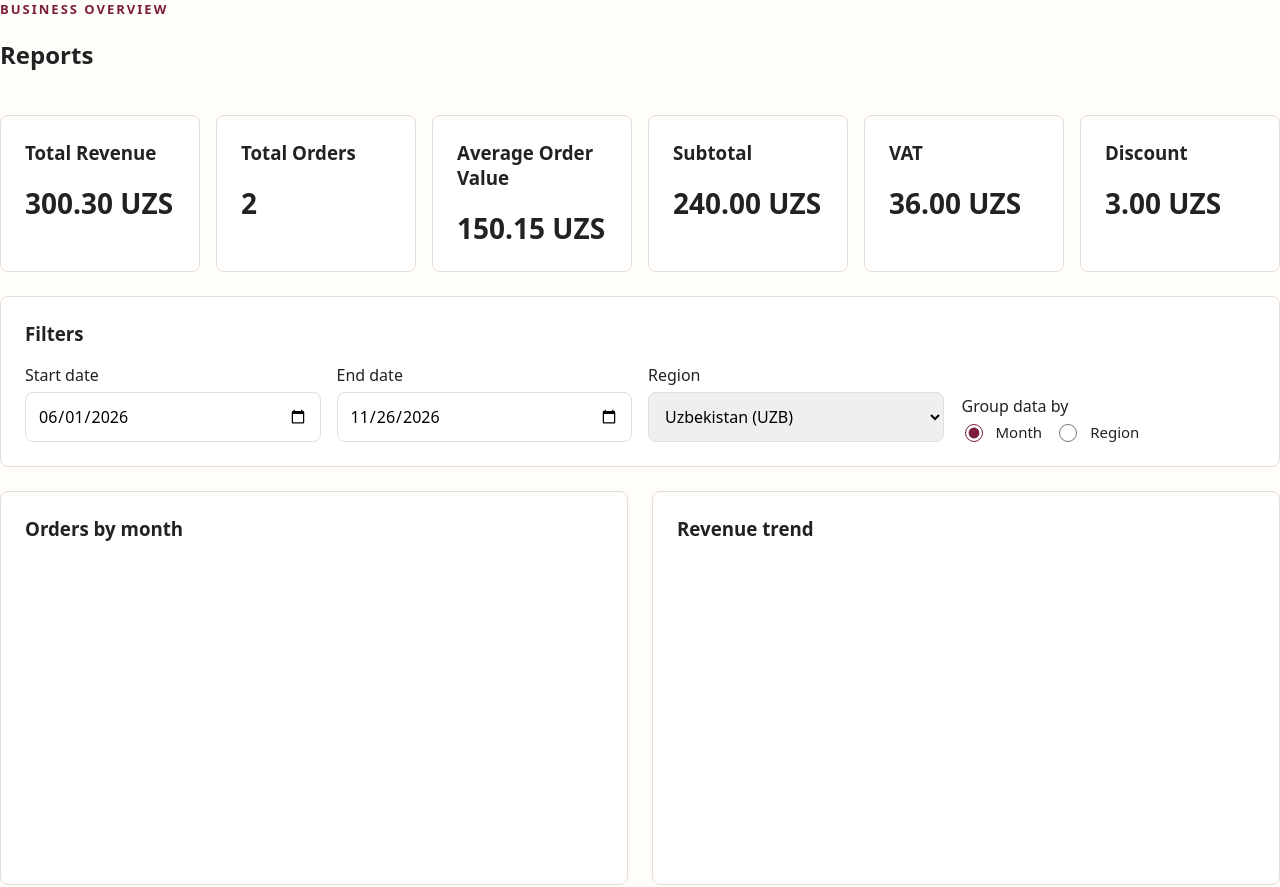
Sales reports › requests PDF using exactly the active date, region and grouping filters
This screenshot has width=1280, height=887.
Later steps or results of the test are not shown.
Expected: the text "300.30 UZS" is shown, x1=25 y1=184 x2=173 y2=222
Type "2026-01-01" into the date field labelled "Start date".
click(173, 417); type("2026-01-01")  # box x1=25 y1=392 x2=320 y2=442
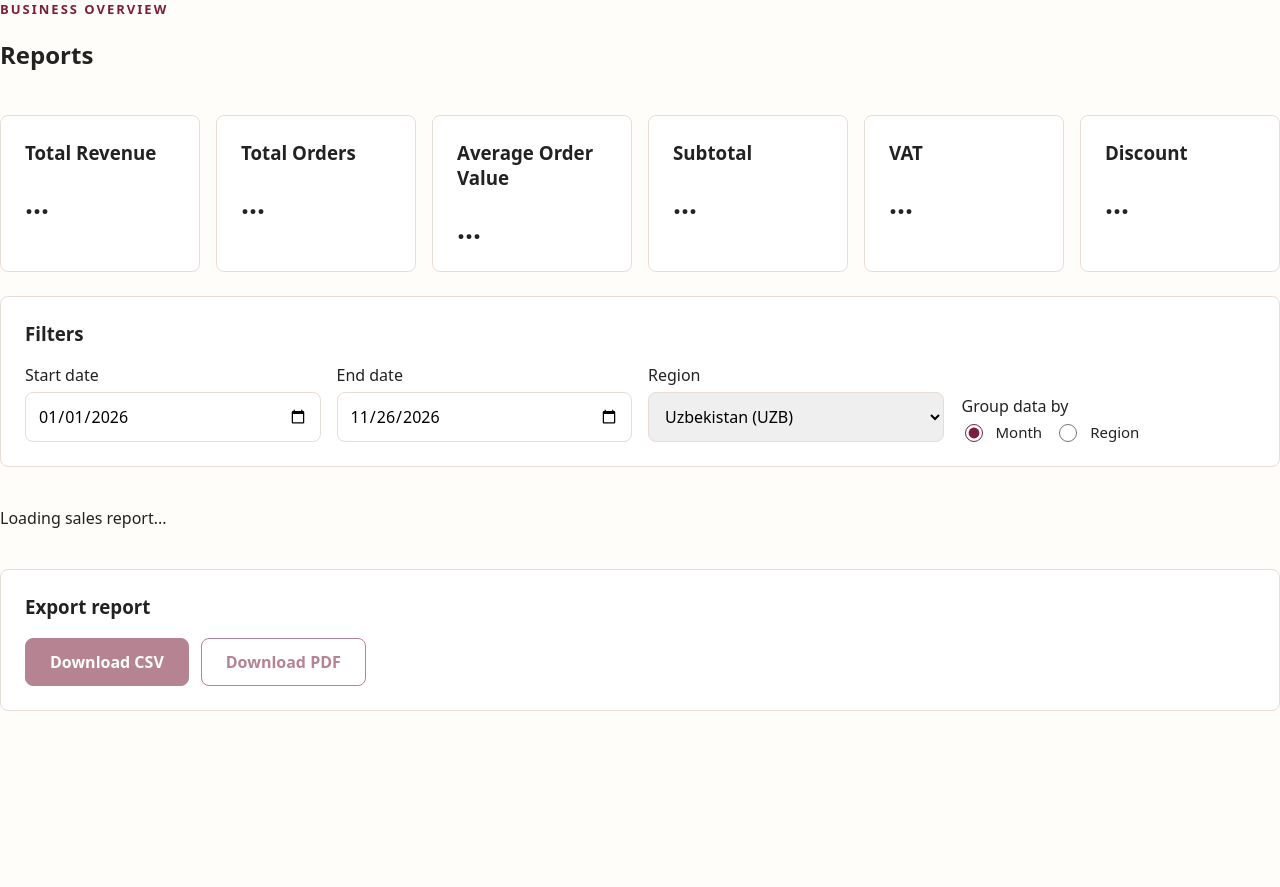
Type "2026-01-31" into the date field labelled "End date".
click(484, 417); type("2026-01-31")  # box x1=336 y1=392 x2=632 y2=442
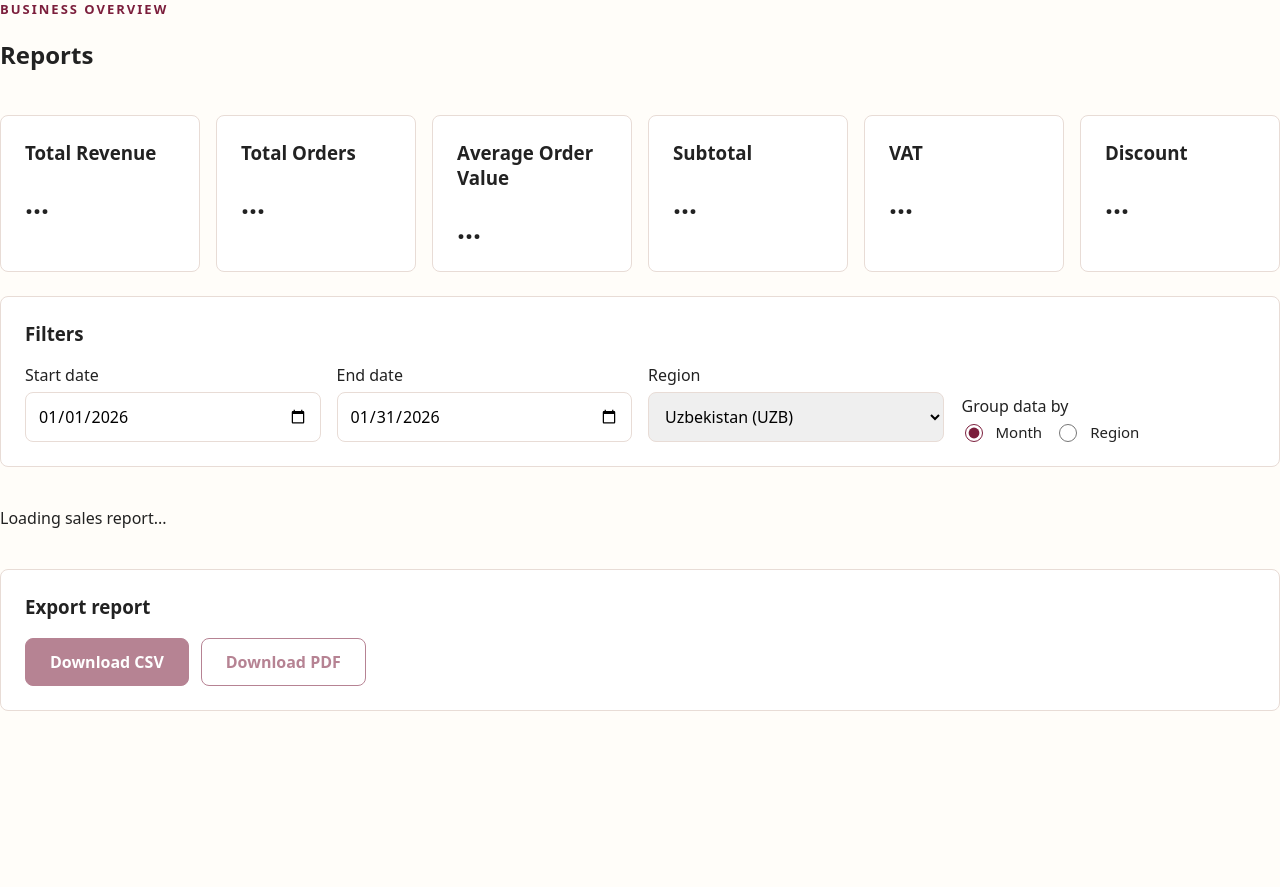
Select "Georgia (GEO)" in the dropdown labelled "Region" at x=796, y=417, box x1=648 y1=392 x2=944 y2=442
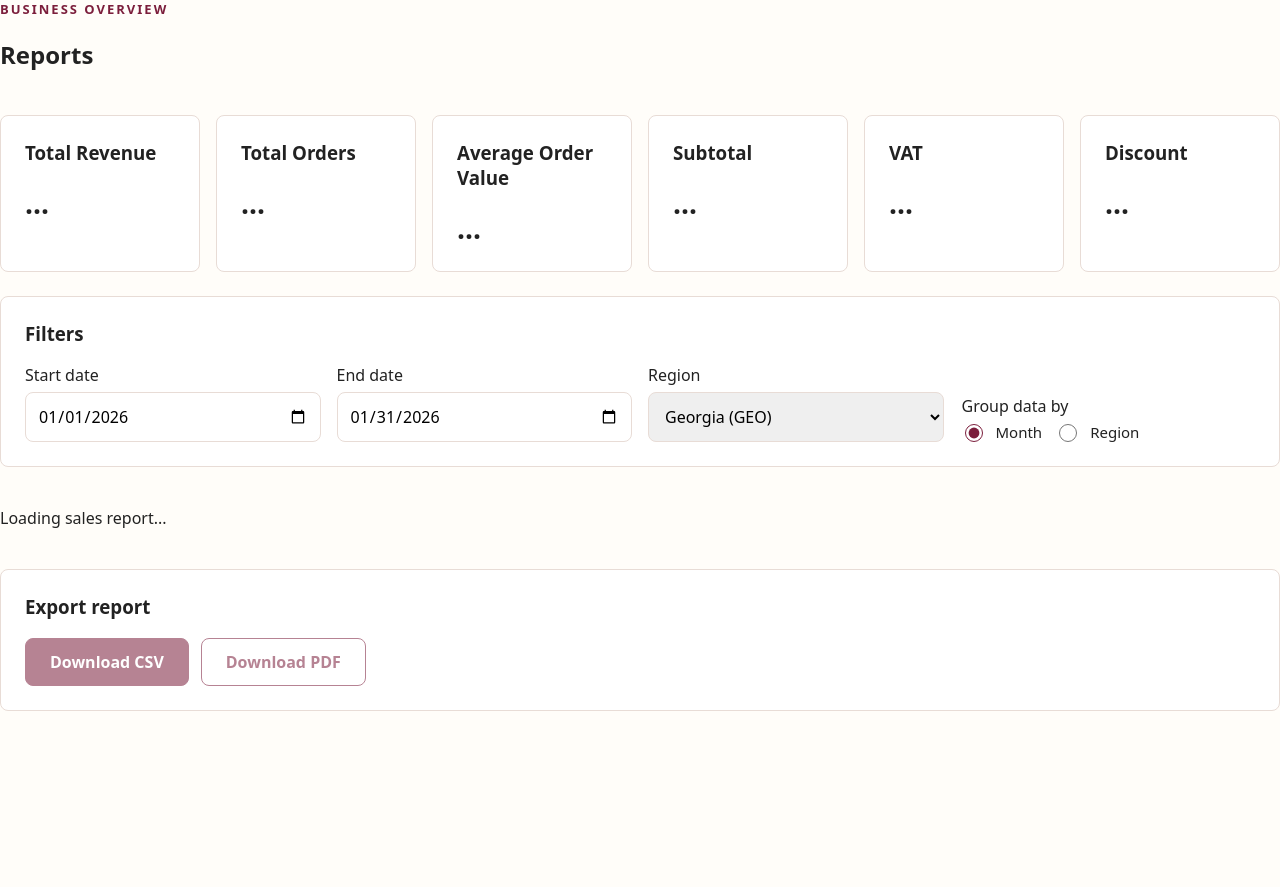
Click the radio button labelled "Region".
click(1068, 433)  # box x1=1059 y1=424 x2=1077 y2=442
(page scrolled)
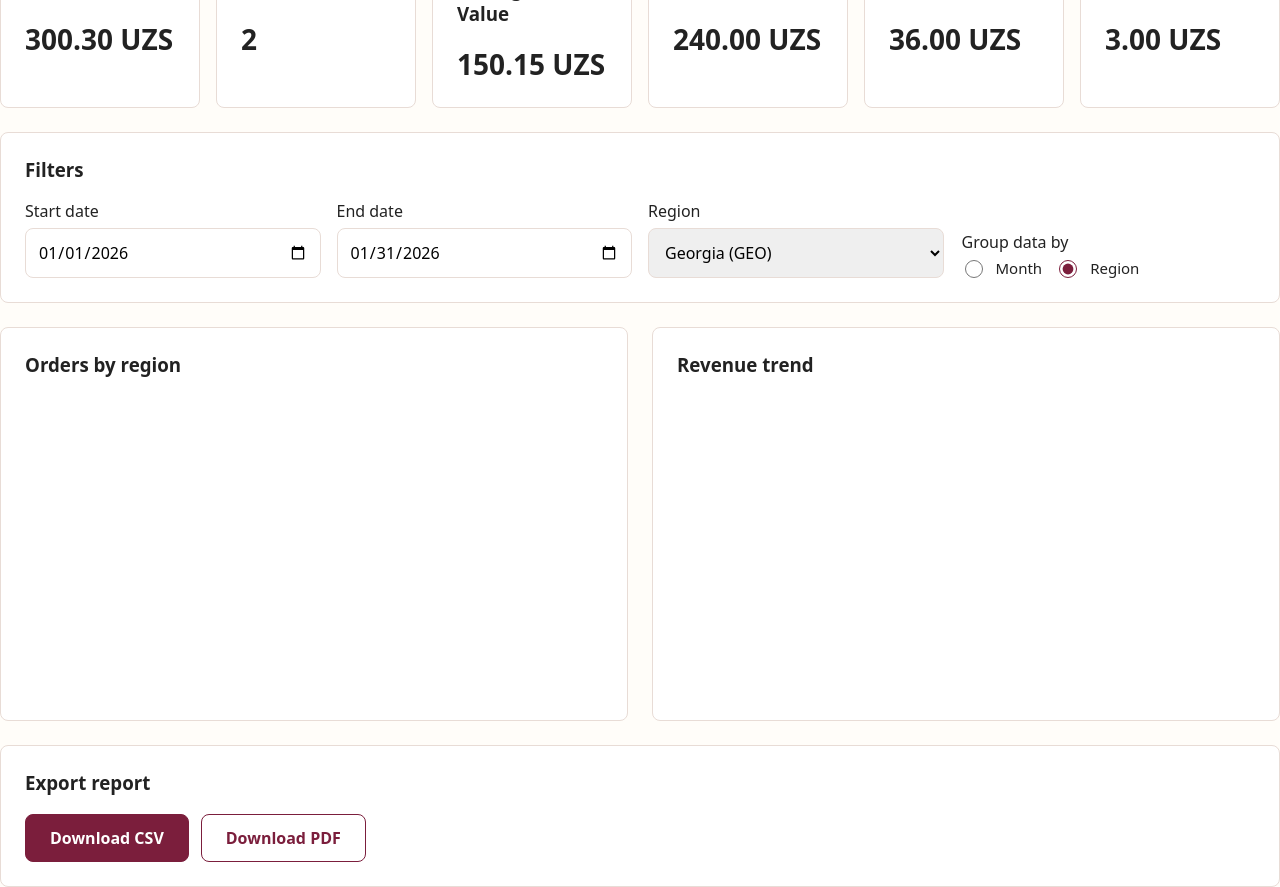
Now the button "Download PDF" is enabled, box x1=201 y1=814 x2=366 y2=862
